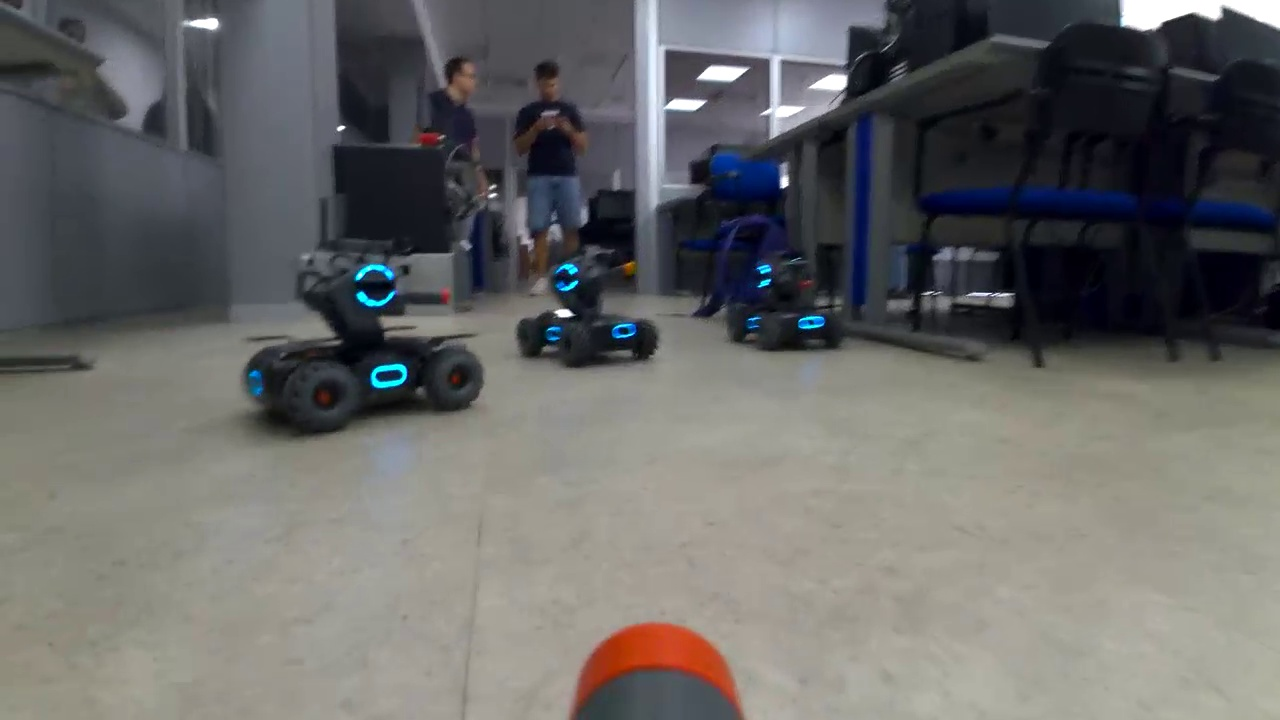robot: (242, 228, 494, 441), (512, 250, 660, 376), (721, 247, 850, 366)
